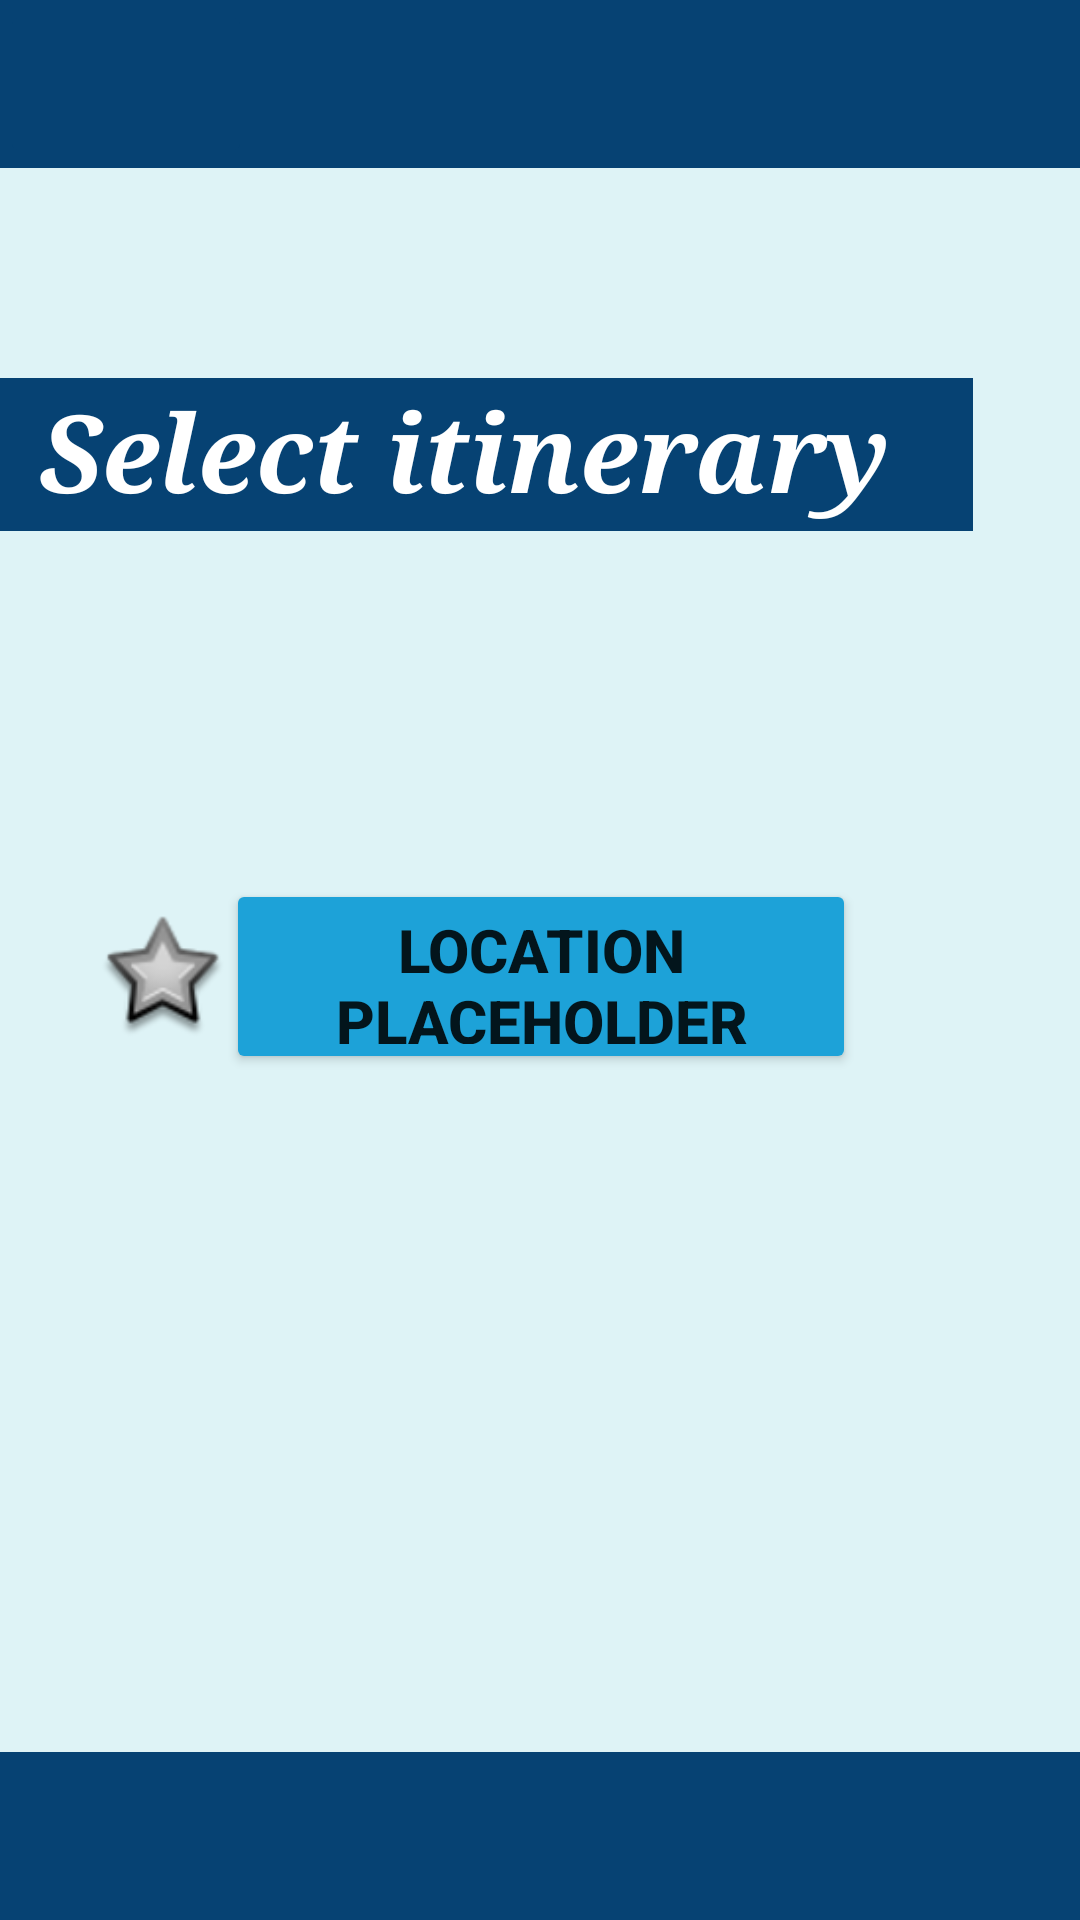

Icons on this 1080w x 1920h Android screen, each with its box as region(x1, y1, x2, y2):
Star image: region(107, 917, 219, 1031)
